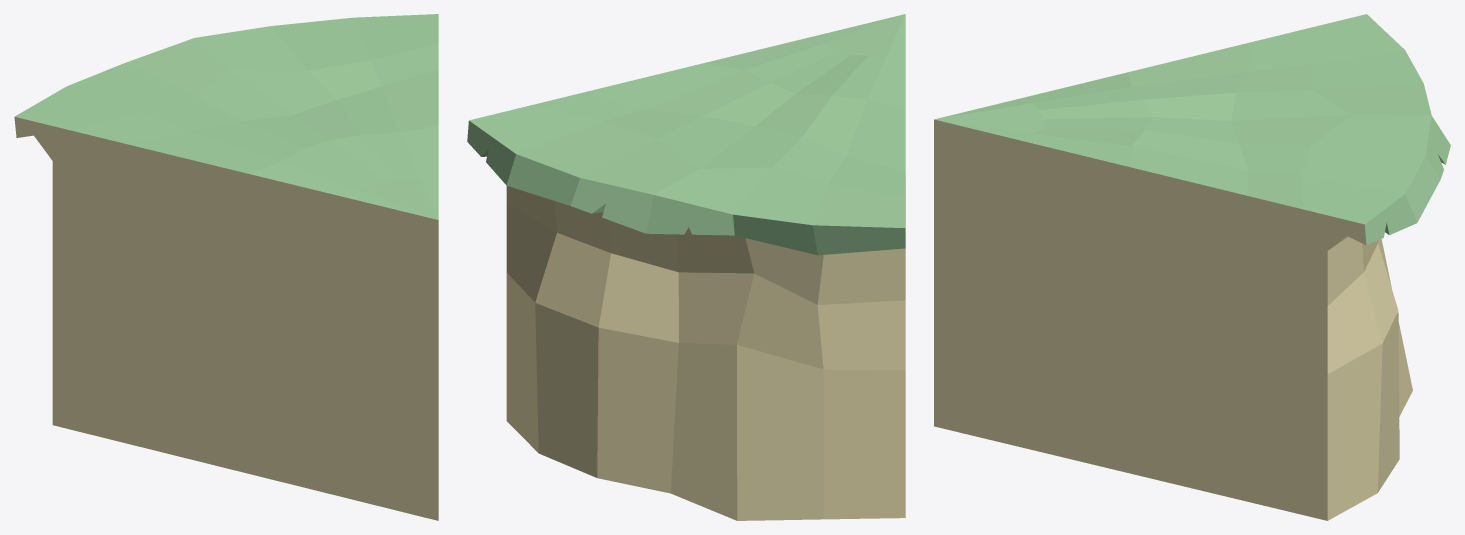
The model's file is tile10.glb.
3 views of the same model, side by side, from view 1: azimuth 30°, elevation 25°; view 2: azimuth 150°, elevation 25°; view 3: azimuth 270°, elevation 25° (orthographic). The views are drawn at different scales.
Visible parts, largest first — view 1: hill8.003; view 2: hill8.003; view 3: hill8.003.
Part boxes in pixels (x1=…): hill8.003: x1=14, y1=14, x2=438, y2=520; hill8.003: x1=467, y1=14, x2=905, y2=520; hill8.003: x1=934, y1=14, x2=1450, y2=520.
Size of the model in its own units: 0.5496 by 0.3776 by 0.5687.
